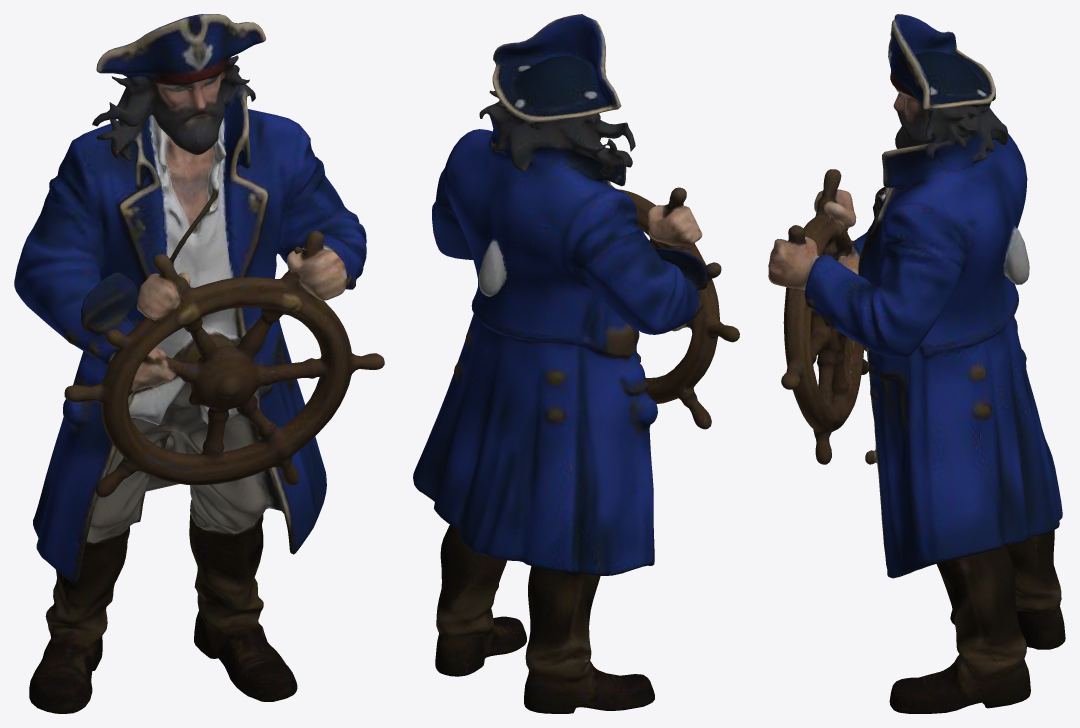
The model's file is barnacle_helm.glb.
3 views of the same model, side by side, from view 1: azimuth 30°, elevation 25°; view 2: azimuth 150°, elevation 25°; view 3: azimuth 270°, elevation 25° (orthographic). The views are drawn at different scales.
Bounding box in the file's own units: 0.4165 × 0.896 × 0.3712.
1 material, 1 textured.
